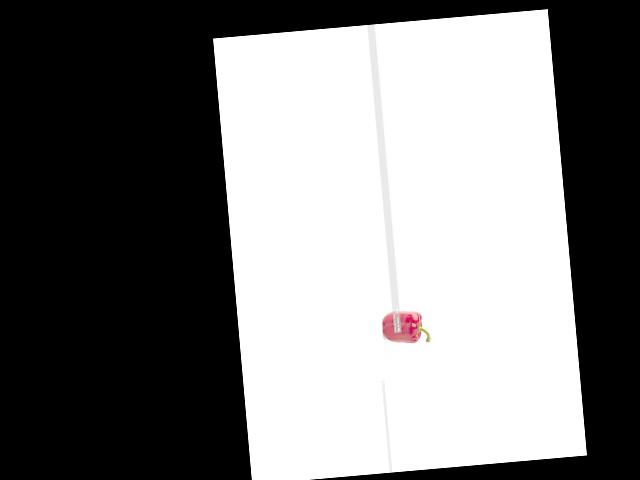bell_pepper: (382, 305, 433, 350)
